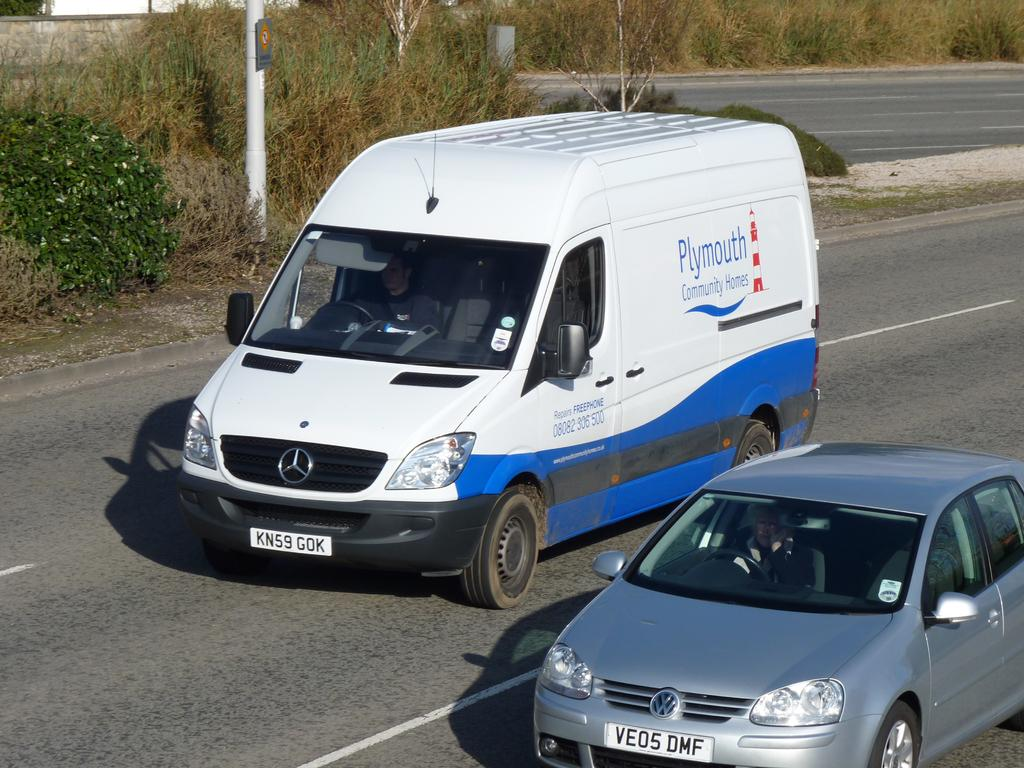vehicle: (177, 111, 820, 609), (533, 439, 1024, 768)
